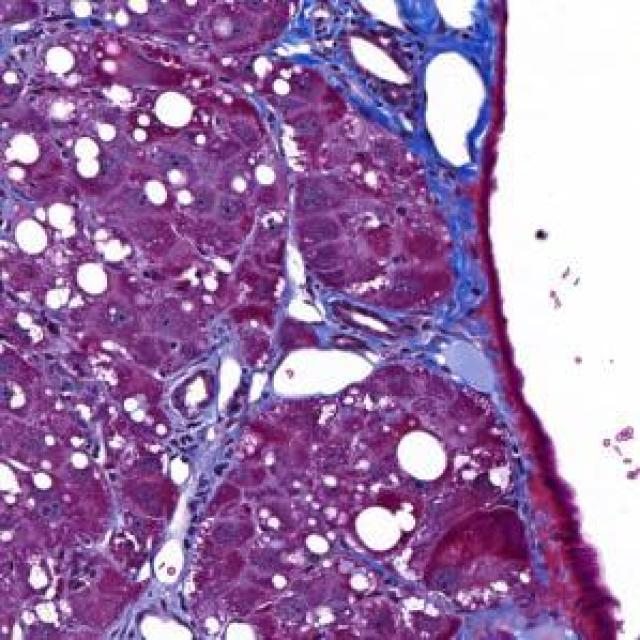fibrosis: (285, 0, 501, 113), (400, 165, 499, 362)
